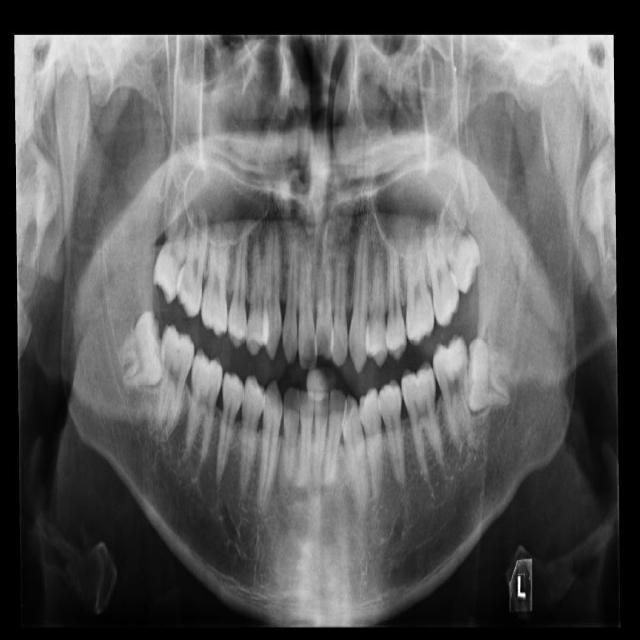3M ESPE Implant: (147, 202, 199, 306)
73: (484, 598, 490, 601)
BioHorizons Implant: (420, 213, 464, 330)
BioLife Implant: (435, 218, 491, 297)
Biomet 3i Implant: (461, 337, 514, 414)
Blue Sky Bio Implant: (432, 334, 470, 438)
Caries: (173, 208, 211, 318)
Implant: (158, 324, 195, 439)
Keystone Dental Implant: (116, 310, 167, 387)
